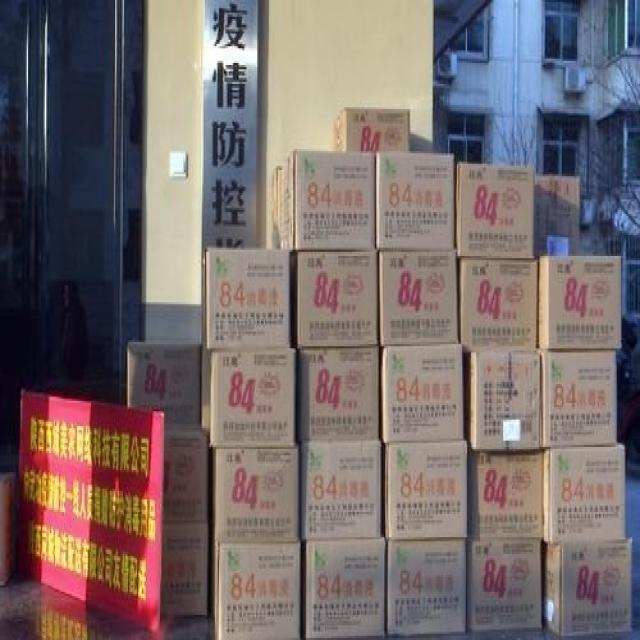box: (280, 151, 378, 252), (205, 246, 298, 348), (210, 541, 305, 640), (209, 447, 300, 541), (300, 443, 385, 543), (545, 537, 632, 634), (210, 350, 297, 447), (379, 342, 463, 441), (298, 250, 380, 350), (297, 348, 381, 445), (387, 441, 468, 539), (544, 445, 626, 541), (387, 539, 468, 636), (380, 250, 460, 348), (306, 539, 385, 638), (462, 353, 543, 449), (460, 258, 540, 355), (540, 348, 617, 447), (376, 153, 454, 250), (540, 256, 620, 350), (468, 537, 544, 634), (458, 166, 534, 260), (468, 449, 545, 539), (127, 344, 204, 426), (161, 522, 210, 617), (161, 426, 209, 522), (532, 174, 580, 256), (334, 109, 411, 153), (268, 166, 280, 248)
